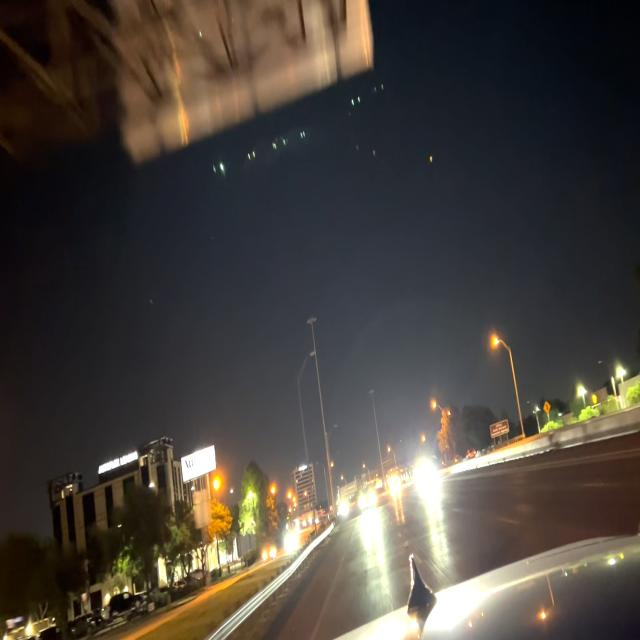back-of-sign: (115, 0, 373, 157)
